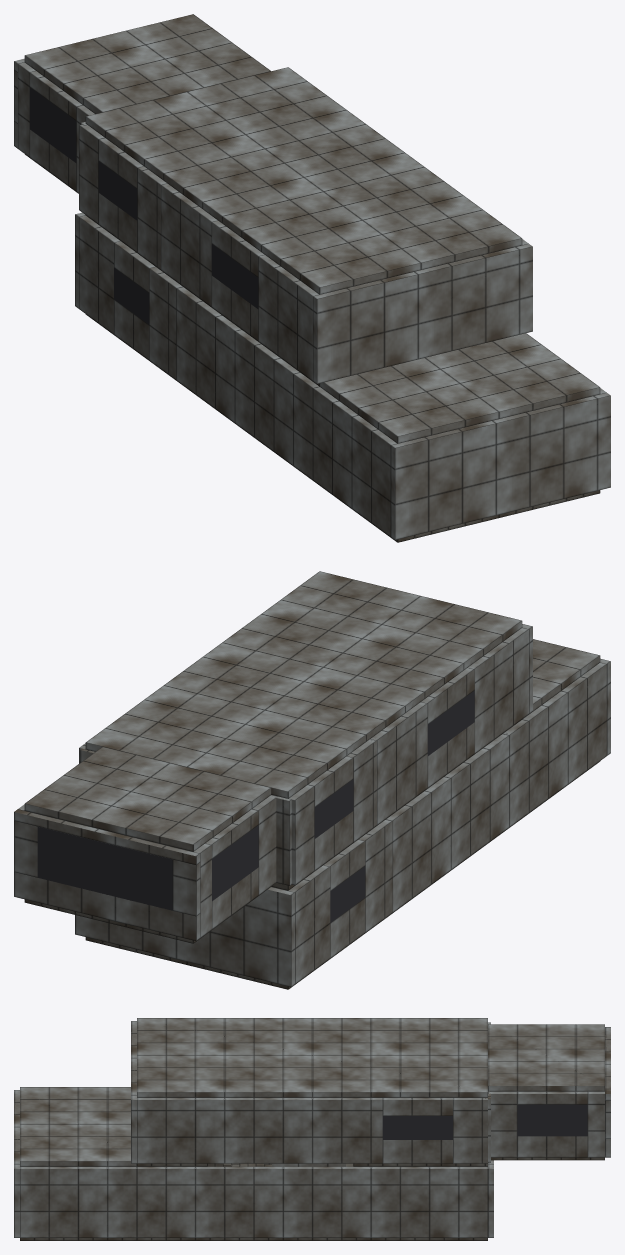
Rendered from sparrow_decks.glb.
3 renders of one model, top to bottom at view 1: azimuth 30°, elevation 25°; view 2: azimuth 150°, elevation 25°; view 3: azimuth 270°, elevation 25°, orthographic. The views are drawn at different scales.
Visible parts, largest first — view 1: upper_roof, lower_w_stern, lower_stern, upper_stern, lower_roof_stern, cockpit_roof, upper_w_bunks_a, upper_w_bunks_b, lower_w_port_b, lower_w_port_a, upper_w_galley_a, cockpit_w_pane (+14 smaller); view 2: upper_roof, lower_w_stern, cockpit_roof, lower_bow, bow_pane, upper_w_bunks_a, bow_low, upper_w_bunks_b, lower_w_port_b, lower_w_port_a, lower_roof_stern, bow_high (+21 smaller); view 3: lower_e, upper_roof, upper_e_galley_a, lower_roof_stern, cockpit_roof, upper_e_galley_b, cockpit_e_pane, cockpit_e_a, upper_e_galley_low, upper_e_galley_pane, cockpit_e_low, lower_floor (+9 smaller).
Part boxes in pixels (x1,y1,x2,y2): upper_roof: (85, 67, 522, 294); lower_w_stern: (176, 287, 397, 536); lower_stern: (391, 393, 610, 539); upper_stern: (313, 244, 532, 383); lower_roof_stern: (319, 333, 600, 443); cockpit_roof: (24, 14, 270, 113); upper_w_bunks_a: (258, 255, 319, 380); upper_w_bunks_b: (161, 183, 217, 306); lower_w_port_b: (79, 215, 120, 334); lower_w_port_a: (149, 267, 182, 379); upper_w_galley_a: (137, 166, 167, 269); cockpit_w_pane: (29, 87, 76, 162); upper_roof: (85, 571, 522, 798); lower_w_stern: (386, 662, 606, 912); cockpit_roof: (24, 746, 271, 851); lower_bow: (75, 886, 294, 986); bow_pane: (37, 826, 172, 910); upper_w_bunks_a: (468, 627, 528, 753); bow_low: (14, 872, 200, 940); upper_w_bunks_b: (371, 702, 427, 824); lower_w_port_b: (288, 865, 330, 983); lower_w_port_a: (359, 819, 392, 932); lower_roof_stern: (522, 639, 600, 719); bow_high: (14, 809, 200, 865); lower_e: (20, 1166, 487, 1237); upper_roof: (137, 1018, 487, 1097); upper_e_galley_a: (137, 1097, 382, 1163); lower_roof_stern: (20, 1087, 136, 1166); cockpit_roof: (488, 1024, 604, 1091); upper_e_galley_b: (453, 1097, 487, 1163); cockpit_e_pane: (517, 1104, 587, 1136); cockpit_e_a: (488, 1091, 517, 1157); upper_e_galley_low: (382, 1140, 452, 1163); upper_e_galley_pane: (382, 1116, 452, 1139); cockpit_e_low: (517, 1136, 587, 1157); lower_floor: (20, 1163, 487, 1240).
Bounding box in the file's own units: 6.4 × 5.6 × 20.4.
Materials: 11 (3 with a texture image).
